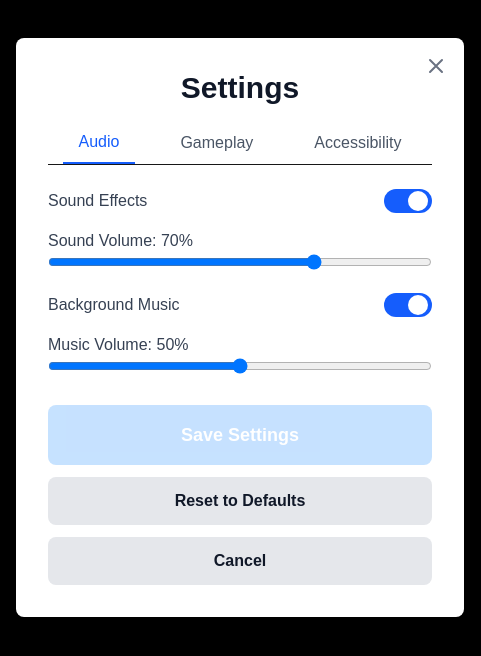
Scenario: SettingsMenu › shows unsaved changes indicator
Expected: the text "You have unsaved changes" is not shown
Click the switch named "Sound Effects" at (408, 200), box [384,188,432,212]
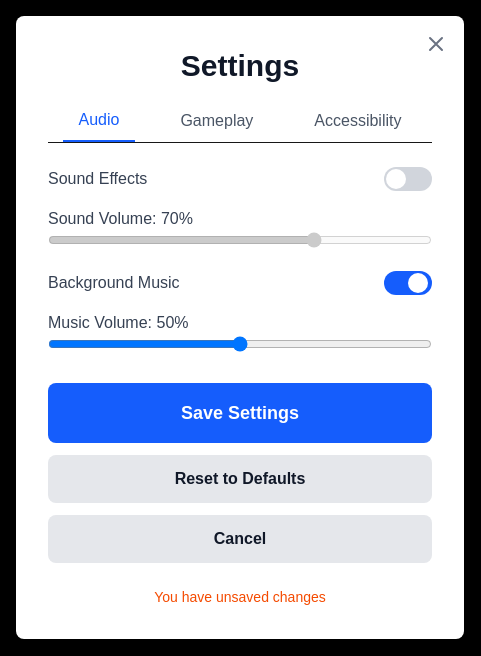
Now the text "You have unsaved changes" is shown, box [154,588,326,604]
